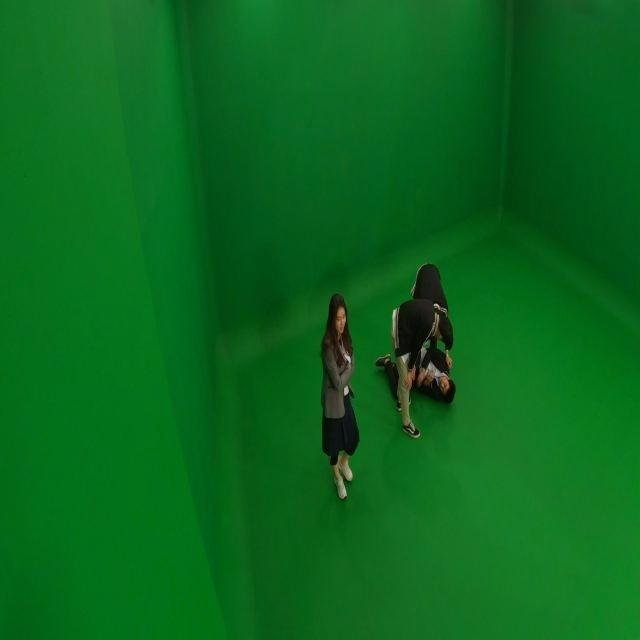fight: (374, 263, 457, 438)
non-fight: (317, 292, 362, 500)
